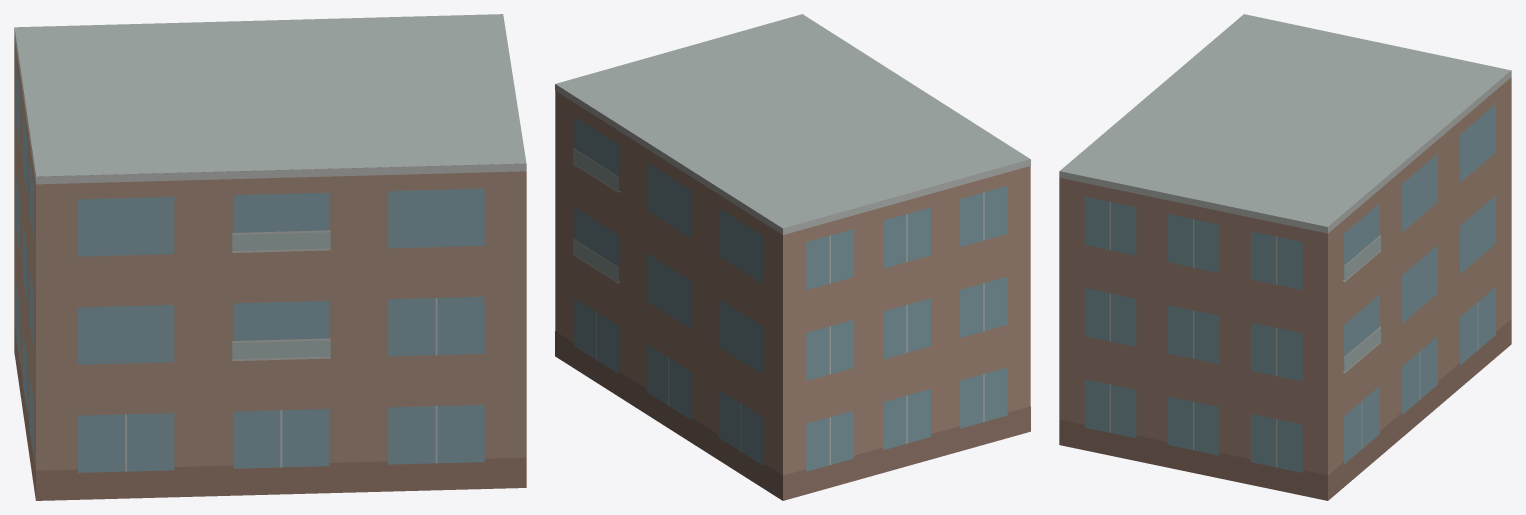
File: survey-upis-32891844.glb
3 renders of one model, left to right at view 1: azimuth 30°, elevation 25°; view 2: azimuth 150°, elevation 25°; view 3: azimuth 270°, elevation 25°, orthographic. The views are drawn at different scales.
Visible parts, largest first — view 1: survey-upis-32891844.tmp; view 2: survey-upis-32891844.tmp; view 3: survey-upis-32891844.tmp.
Part boxes in pixels (<box>): survey-upis-32891844.tmp: <box>14,14,526,500</box>; survey-upis-32891844.tmp: <box>555,14,1030,500</box>; survey-upis-32891844.tmp: <box>1059,14,1511,500</box>.
Bounding box in the file's own units: 16.85 × 10.1 × 15.12.
